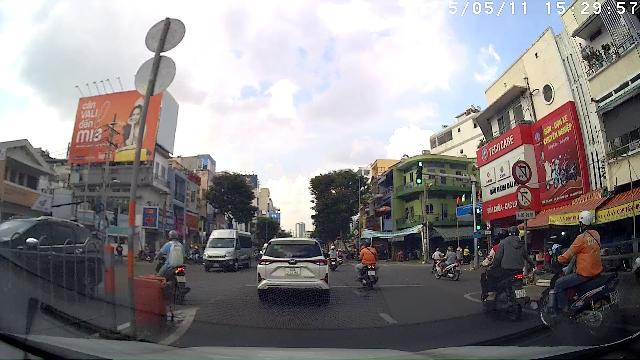103b-cam-oto-re-phai: (515, 185, 534, 208)
103c-cam-oto-re-trai: (512, 160, 532, 184)
